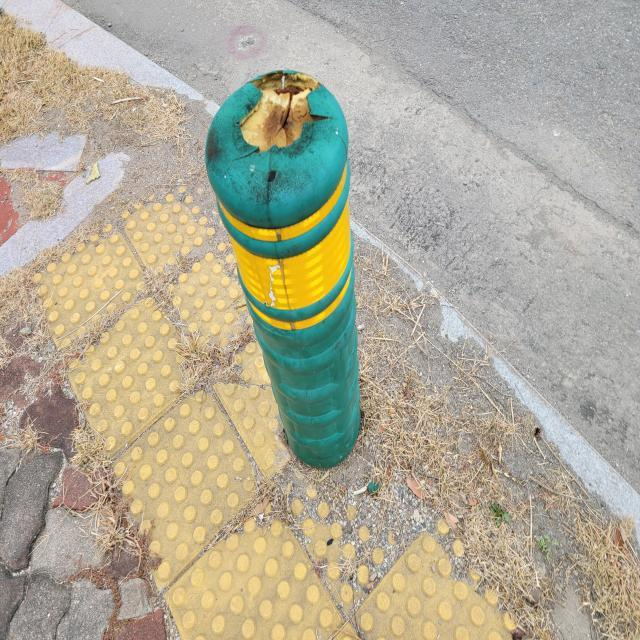pole: (203, 65, 364, 468)
